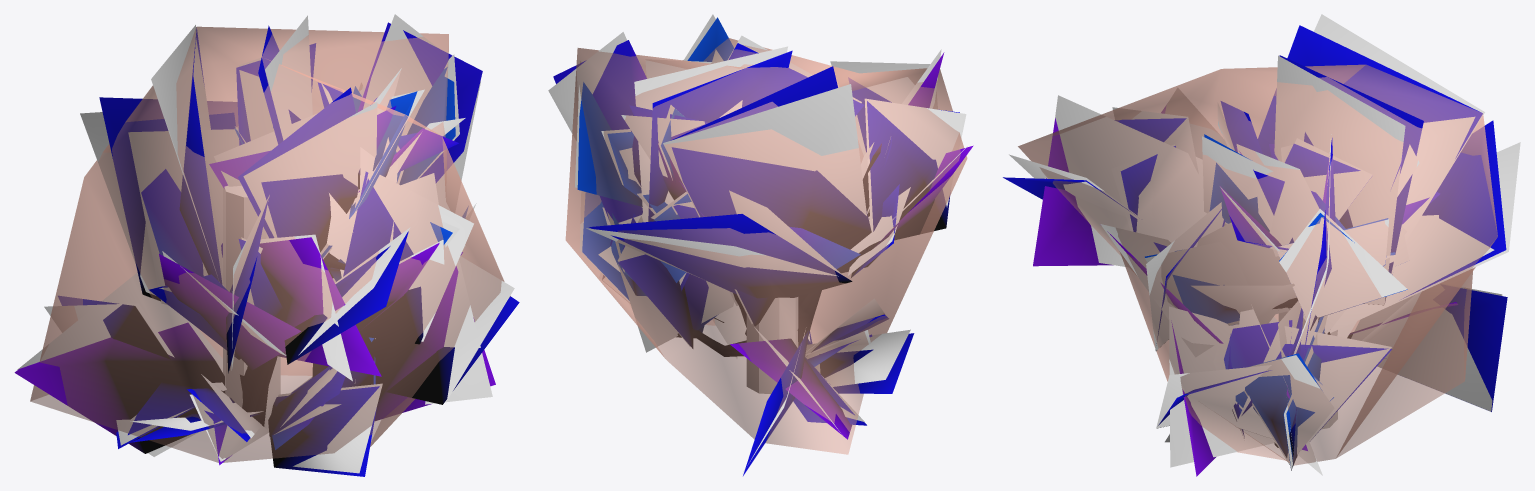
Rendered from Juniper_bush_large_dry_02.dae.
3 views of the same model, side by side, from view 1: azimuth 30°, elevation 25°; view 2: azimuth 150°, elevation 25°; view 3: azimuth 270°, elevation 25° (orthographic). The views are drawn at different scales.
Visible parts, largest first — view 1: Colmesh-1, Juniper_large_02_dry_a300, Juniper_large_02_dry_a150; view 2: Colmesh-1, Juniper_large_02_dry_a300, Juniper_large_02_dry_a150; view 3: Colmesh-1, Juniper_large_02_dry_a150, Juniper_large_02_dry_a300.
Part boxes in pixels (box(x1,y1,x2,y2)): Colmesh-1: box(30, 26, 510, 462); Juniper_large_02_dry_a300: box(14, 22, 519, 476); Juniper_large_02_dry_a150: box(17, 14, 514, 473); Colmesh-1: box(565, 38, 967, 454); Juniper_large_02_dry_a300: box(553, 17, 973, 475); Juniper_large_02_dry_a150: box(548, 14, 967, 473); Colmesh-1: box(1018, 64, 1497, 465); Juniper_large_02_dry_a150: box(1009, 14, 1520, 475); Juniper_large_02_dry_a300: box(1003, 25, 1507, 476).
Size of the model in its own units: 3.07 by 3.46 by 2.87.
